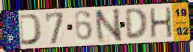6: (74, 9, 94, 45)
7: (44, 11, 66, 46)
D: (18, 13, 44, 47), (124, 7, 149, 42)
H: (149, 6, 174, 39)
N: (93, 7, 123, 44)
